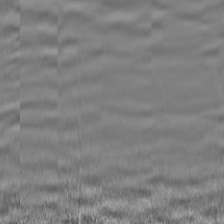cavities: (53, 84, 207, 166)
